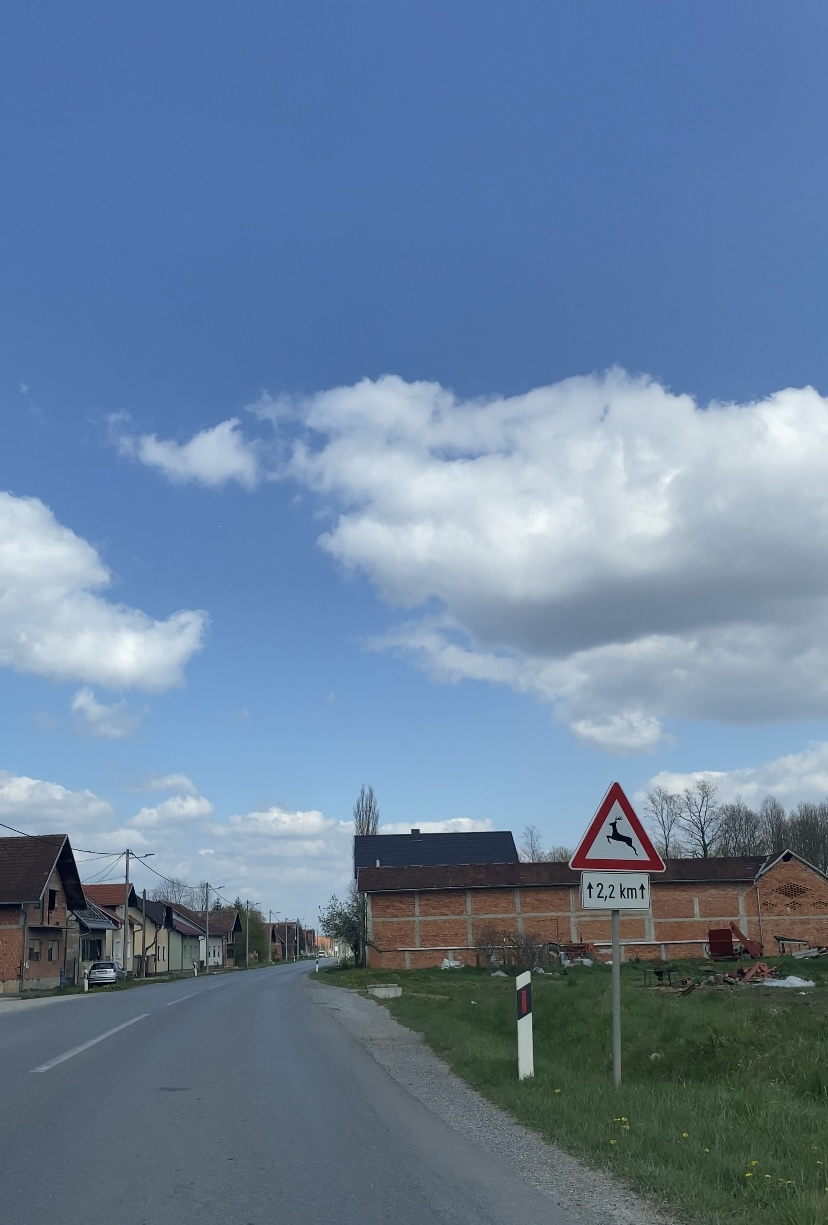Divljač na cesti: (568, 781, 665, 872)
